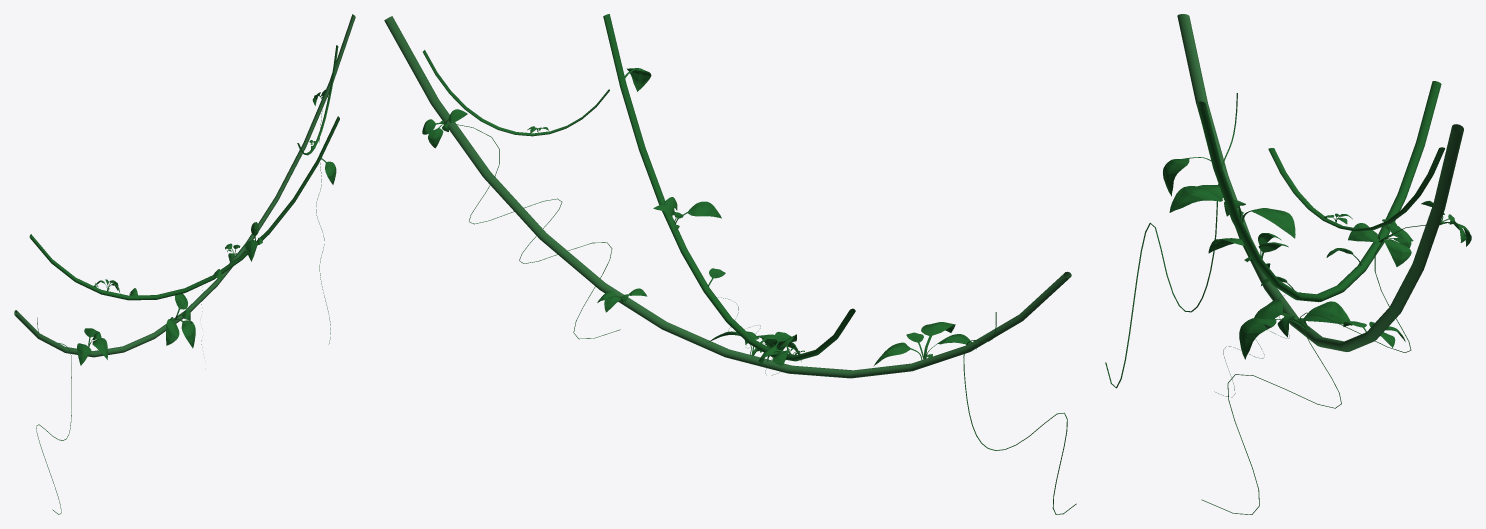
Rendered from lierre.fbx.
3 renders of one model, left to right at view 1: azimuth 30°, elevation 25°; view 2: azimuth 150°, elevation 25°; view 3: azimuth 270°, elevation 25°, orthographic. The views are drawn at different scales.
Visible parts, largest first — view 1: lierre.001; view 2: lierre.001; view 3: lierre.001.
Part boxes in pixels (x1,y1,x2,y2): lierre.001: (14,14,355,514); lierre.001: (384,14,1076,514); lierre.001: (1105,14,1471,514).
Bounding box in the file's own units: 51.76 × 21.85 × 39.68.
